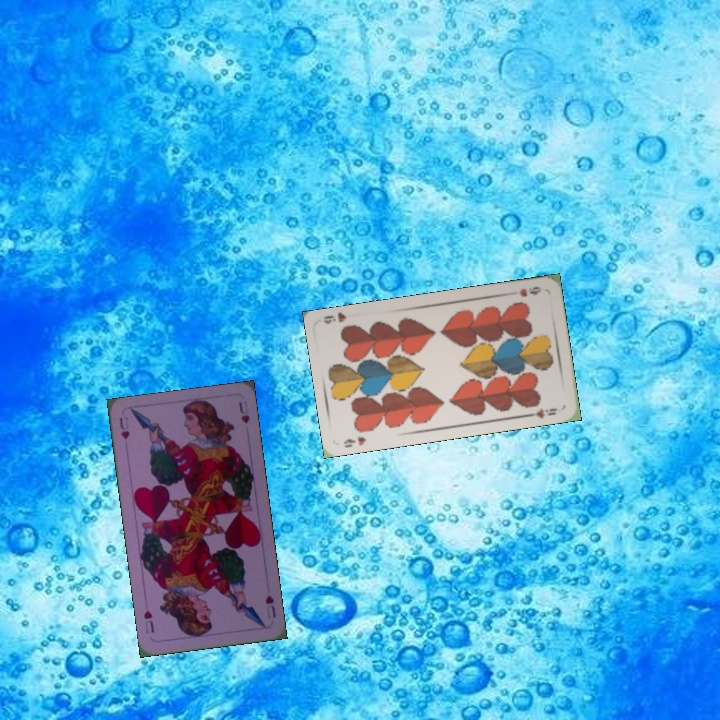H9: (340, 432, 369, 450), (515, 282, 544, 299)
HU: (261, 591, 278, 621), (115, 414, 132, 442)
